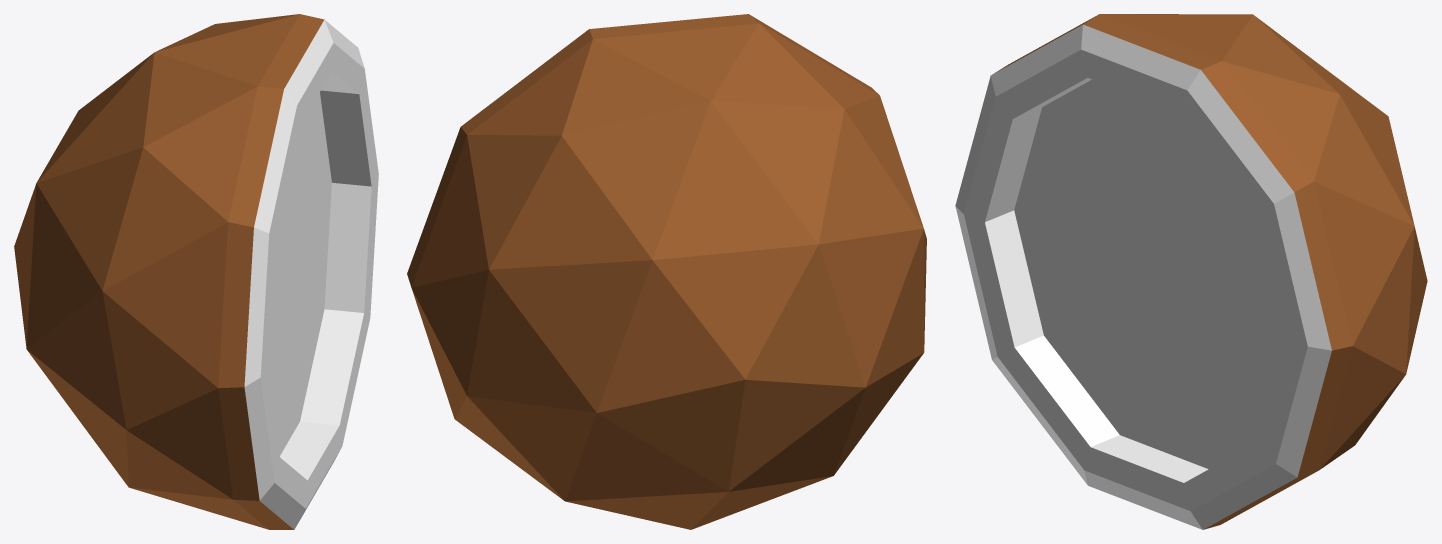
File: Coconut Half.fbx
3 renders of one model, left to right at view 1: azimuth 30°, elevation 25°; view 2: azimuth 150°, elevation 25°; view 3: azimuth 270°, elevation 25°, orthographic. The views are drawn at different scales.
Visible parts, largest first — view 1: Icosphere.001; view 2: Icosphere.001; view 3: Icosphere.001.
Part boxes in pixels (x1=…): Icosphere.001: x1=14, y1=14, x2=378, y2=529; Icosphere.001: x1=407, y1=14, x2=926, y2=529; Icosphere.001: x1=955, y1=14, x2=1427, y2=529.
Bounding box in the file's own units: 168 × 184 × 170.
